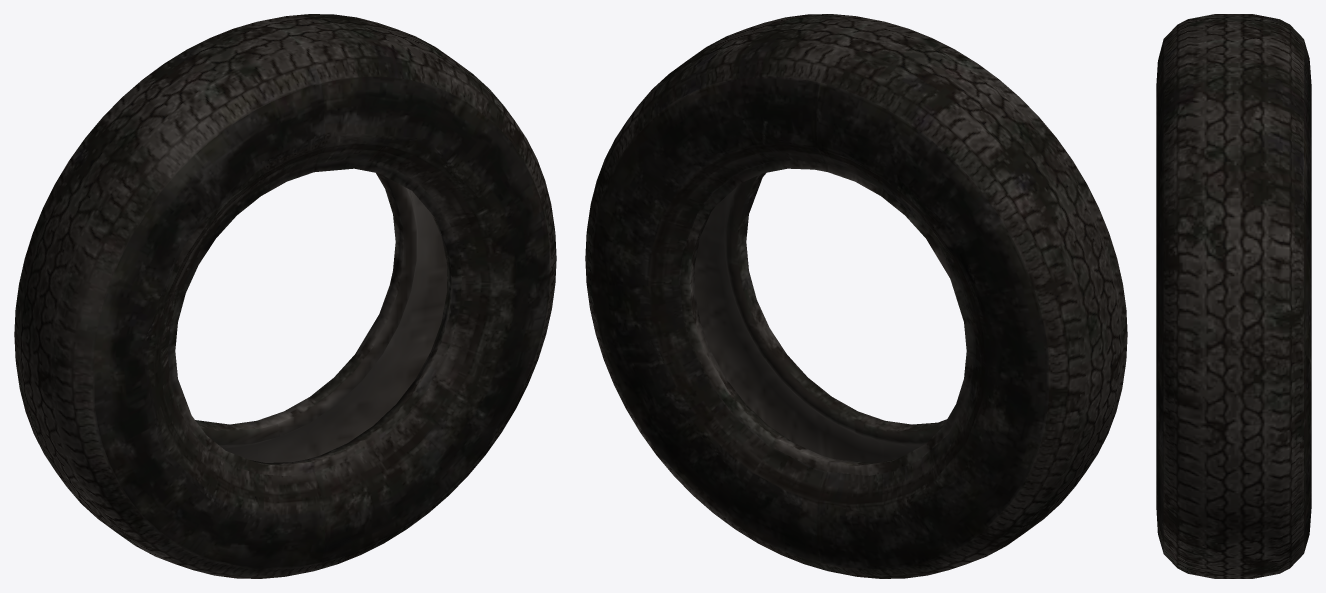
Rendered from old_tyre.glb.
3 views of the same model, side by side, from view 1: azimuth 30°, elevation 25°; view 2: azimuth 150°, elevation 25°; view 3: azimuth 270°, elevation 25° (orthographic). The views are drawn at different scales.
Parts seen in each view (by area): view 1: old_tyre; view 2: old_tyre; view 3: old_tyre.
Part boxes in pixels (x1,y1,x2,y2): old_tyre: [14, 14, 556, 578]; old_tyre: [585, 14, 1127, 578]; old_tyre: [1156, 14, 1311, 578].
Bounding box in the file's own units: 0.6 × 0.6 × 0.165.
1 material, 1 textured.
